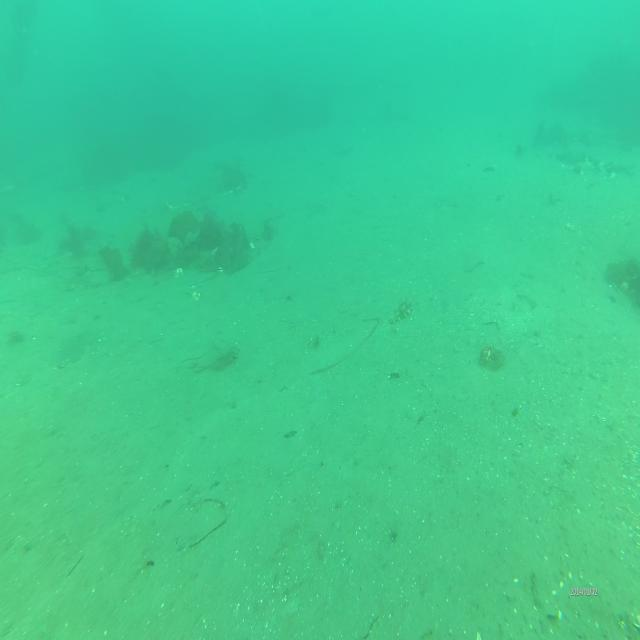holothurian: (390, 299, 414, 325)
scallop: (172, 264, 186, 281), (246, 234, 257, 254), (214, 264, 224, 274)
